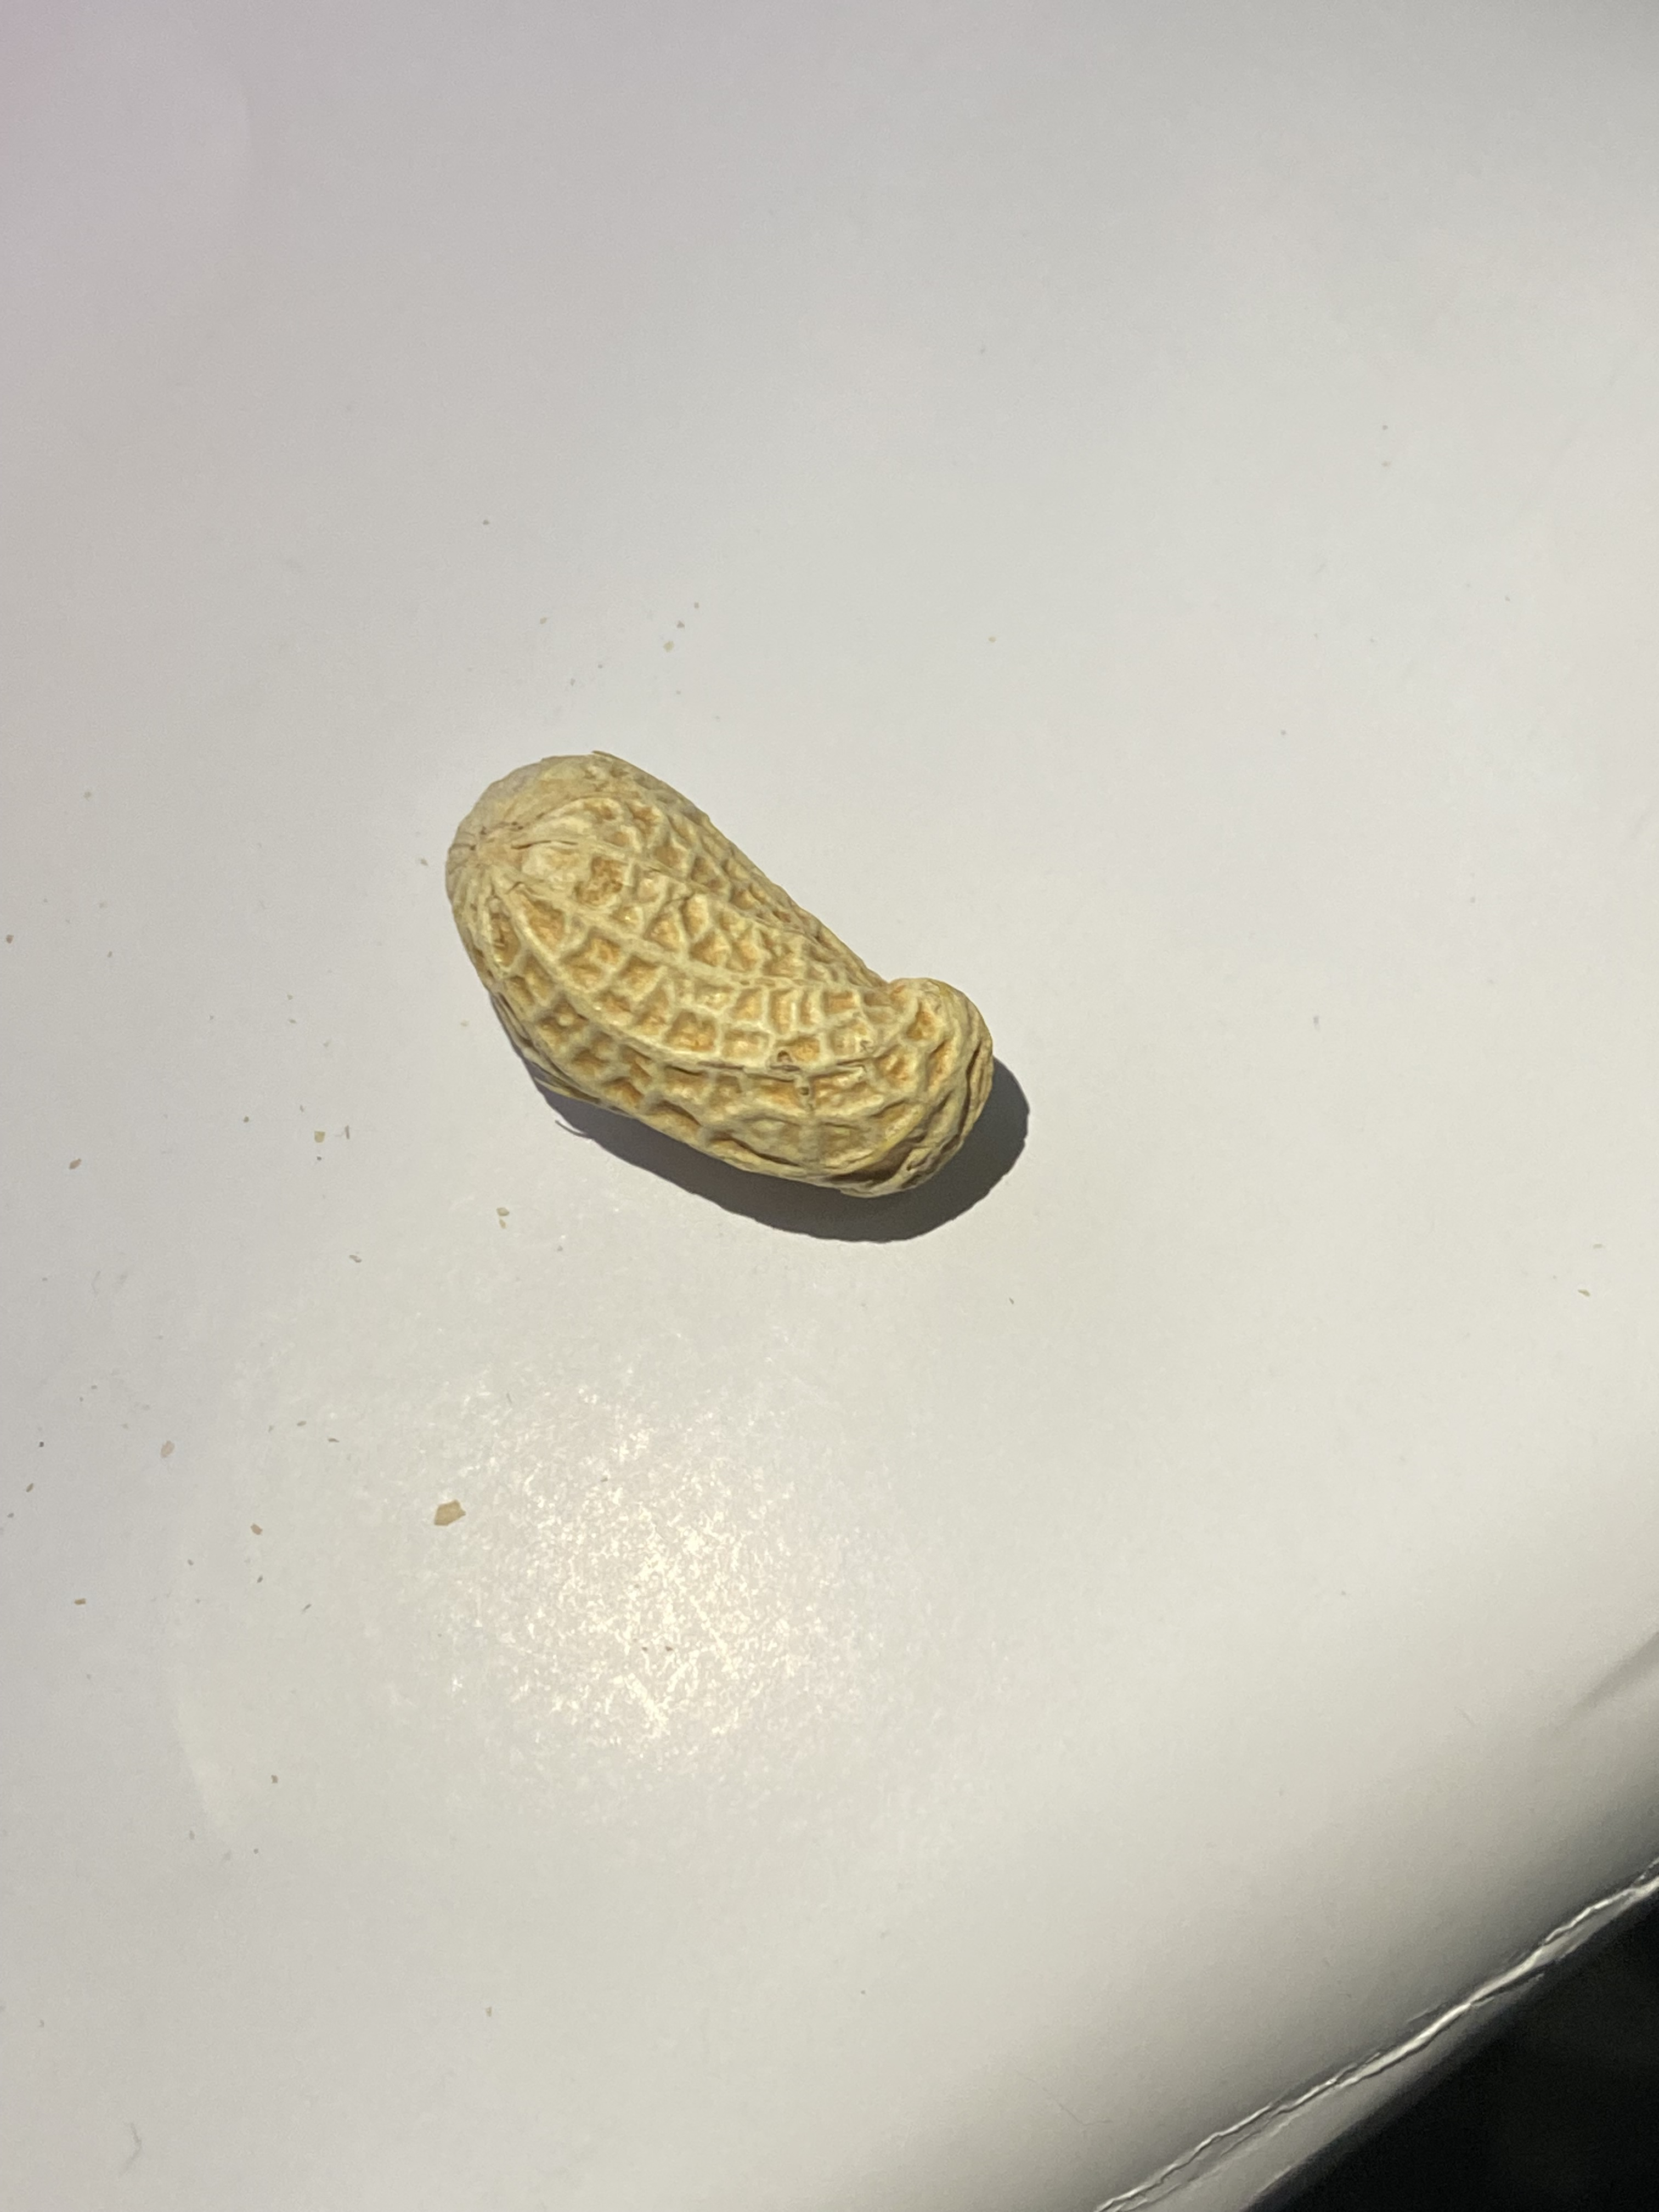kacang1: (423, 738, 1051, 1205)
